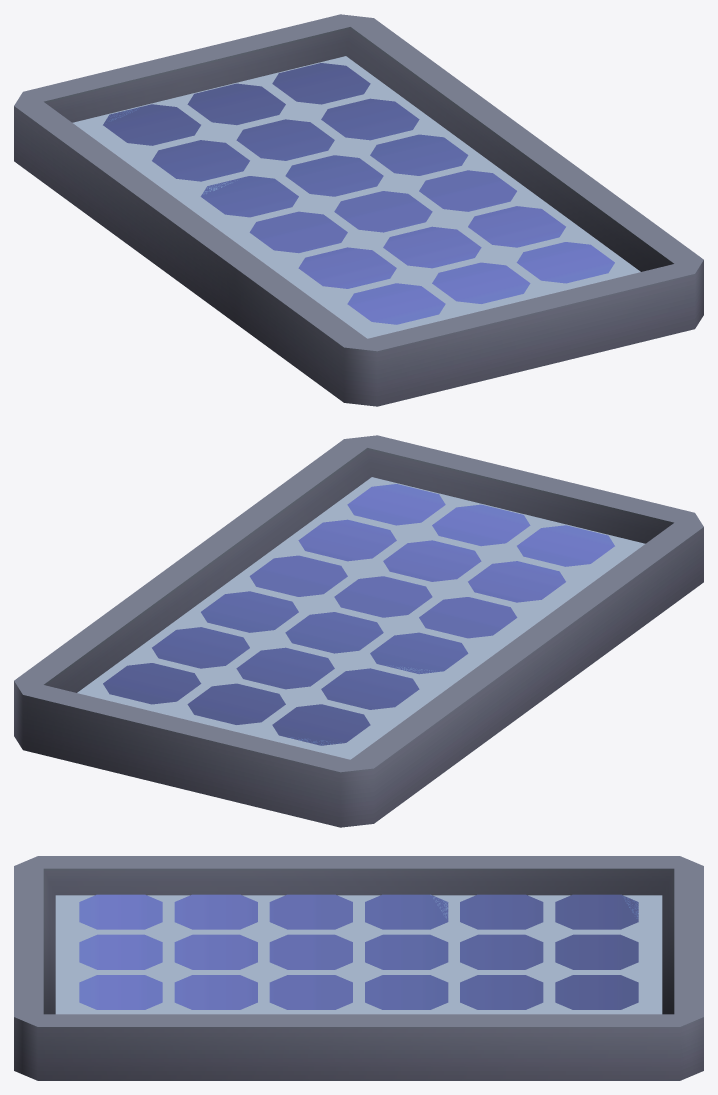
Rendered from solar-panel-flat.glb.
3 renders of one model, top to bottom at view 1: azimuth 30°, elevation 25°; view 2: azimuth 150°, elevation 25°; view 3: azimuth 270°, elevation 25°, orthographic. The views are drawn at different scales.
Parts seen in each view (by area): view 1: solar-panel-flat; view 2: solar-panel-flat; view 3: solar-panel-flat.
Boxes of the visible parts, x1,y1,x2,y2 form: solar-panel-flat: (14,14,703,406); solar-panel-flat: (14,435,703,827); solar-panel-flat: (14,856,703,1080).
Size of the model in its own units: 0.4182 by 0.0615 by 0.7134.
Materials: 1 (1 with a texture image).
